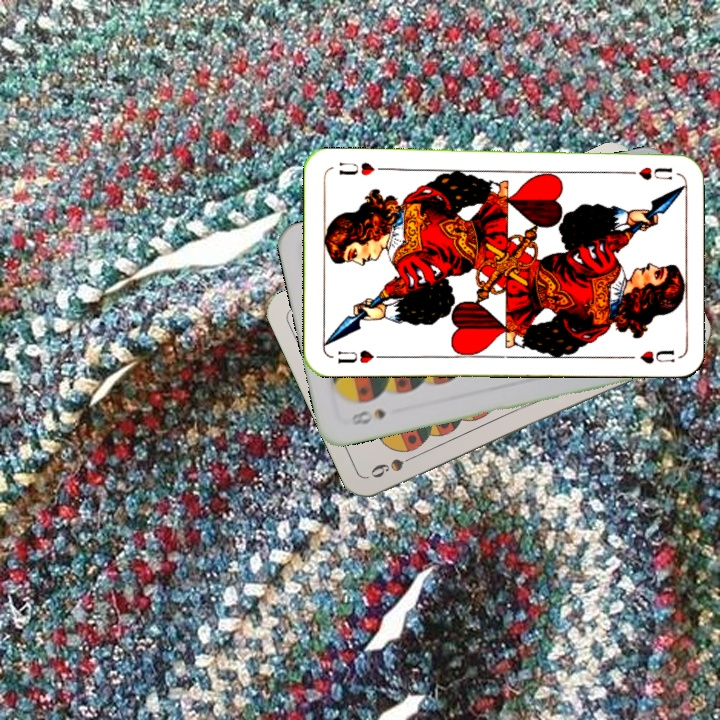HU: (618, 163, 674, 183), (333, 346, 387, 366)
S8: (347, 404, 388, 428)
S9: (366, 449, 422, 481)
